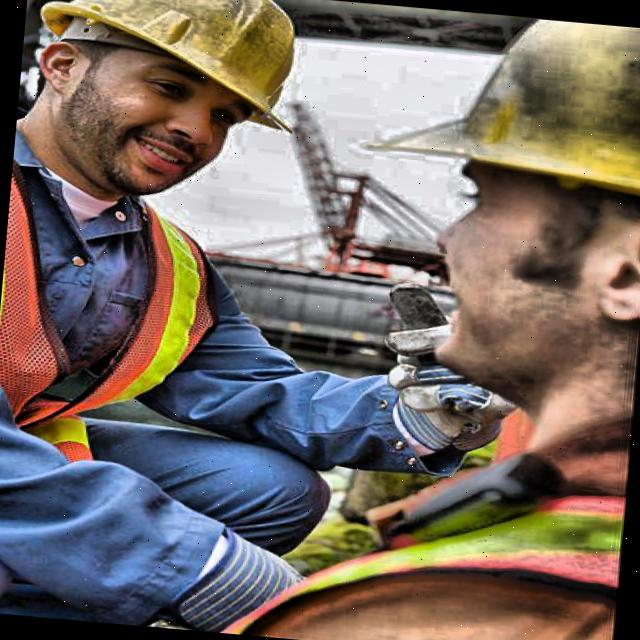helmet: (376, 6, 640, 428), (11, 0, 344, 219)
